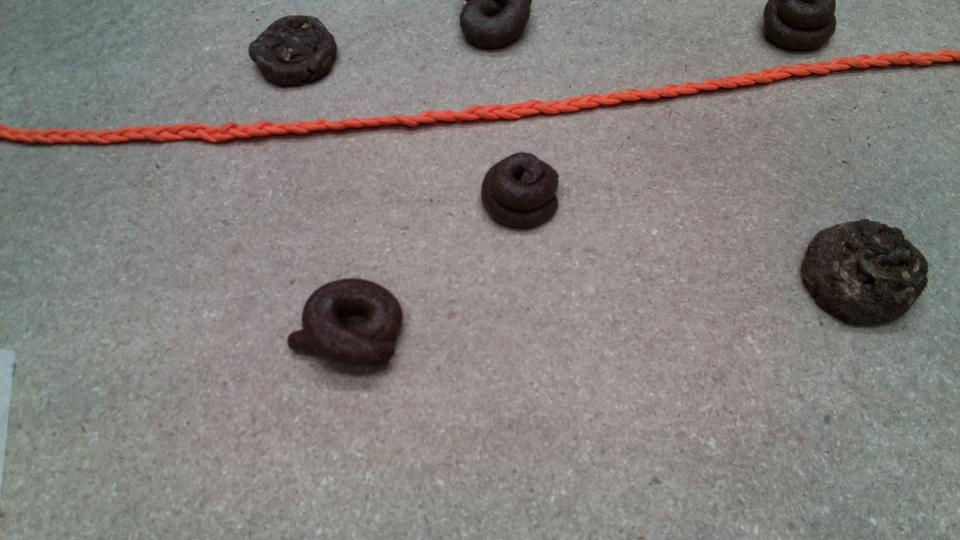poop: (797, 215, 931, 334), (281, 275, 414, 379), (242, 13, 347, 91), (478, 151, 566, 237), (762, 1, 848, 52)
rope: (3, 113, 428, 155), (649, 62, 898, 102), (399, 104, 605, 138), (522, 87, 707, 117), (777, 55, 960, 78)
